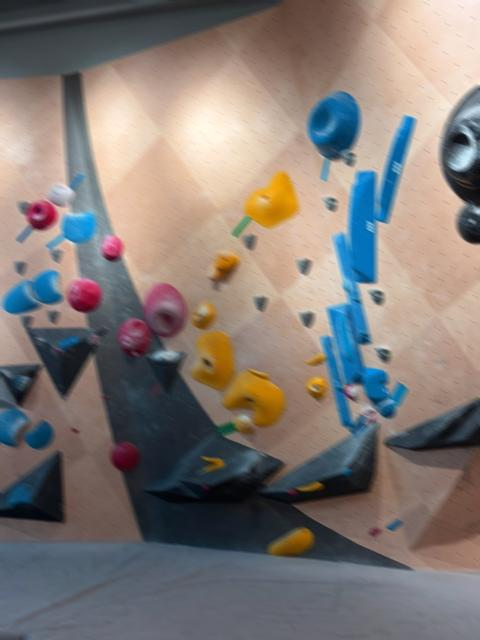crimp: (62, 211, 96, 241), (24, 419, 54, 448), (151, 350, 179, 364), (308, 352, 326, 364), (248, 368, 268, 378), (202, 456, 222, 462)
downhold: (368, 288, 384, 304), (375, 346, 390, 361), (341, 149, 355, 165), (300, 311, 314, 327), (323, 195, 337, 210), (243, 233, 256, 249), (254, 295, 267, 310), (297, 259, 310, 273), (50, 248, 62, 261), (18, 201, 30, 214), (15, 260, 26, 274)
jib: (297, 481, 322, 491), (386, 519, 402, 529), (370, 528, 380, 535)
jug: (215, 249, 239, 271), (378, 398, 396, 417), (208, 262, 225, 279)
ledge: (308, 91, 360, 158)
pocket: (245, 171, 299, 226), (190, 331, 236, 388), (192, 301, 216, 328), (307, 378, 326, 398), (120, 334, 134, 348)
sidepull: (333, 232, 371, 343), (376, 116, 415, 222), (349, 170, 376, 282), (322, 336, 352, 426), (3, 279, 40, 312), (0, 408, 30, 446), (31, 270, 62, 302), (338, 312, 354, 361)
sloper: (440, 88, 480, 202), (144, 282, 187, 336), (118, 318, 151, 356), (68, 278, 102, 311), (111, 442, 139, 469), (101, 236, 122, 260)
tape: (232, 215, 250, 236), (391, 382, 407, 405), (216, 421, 237, 435), (16, 225, 33, 241), (349, 414, 364, 432), (47, 234, 65, 248), (354, 422, 369, 436), (70, 173, 83, 188), (321, 158, 329, 179)
undercling: (223, 369, 284, 425), (8, 482, 33, 506)
volume: (258, 422, 377, 502), (145, 433, 283, 501), (26, 327, 106, 399), (384, 398, 480, 449), (0, 450, 64, 521), (0, 363, 42, 407), (146, 350, 186, 392)
